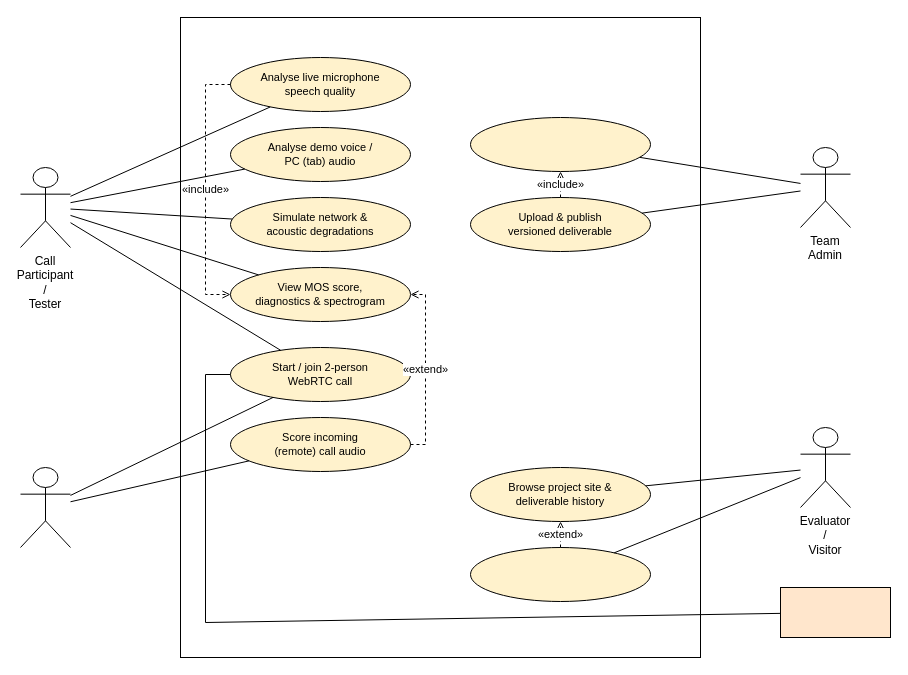
The diagram is 908 pixels wide and 675 high, and some of its shapes have lost their labels. Each missing label, with the box of its shape:
Download a published deliverable file: (470, 546, 650, 602)
EdgeAudio-QC System: (180, 16, 700, 658)
Log in as admin: (470, 116, 650, 172)
Remote Peer: (20, 466, 70, 548)
STUN Server (external): (780, 586, 890, 638)
